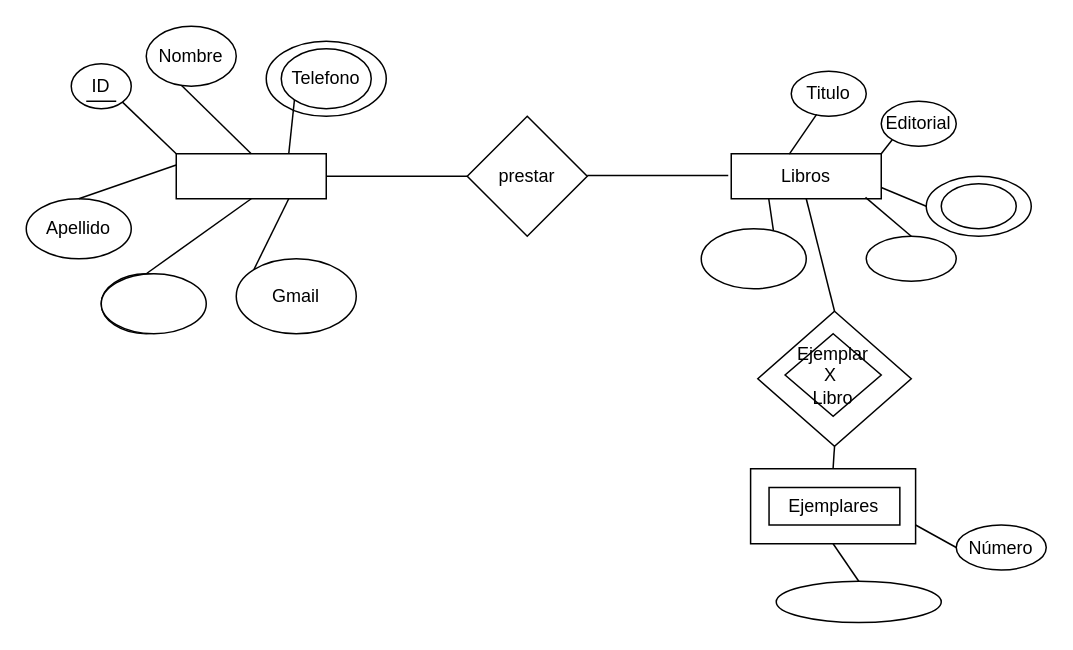
The diagram is 1073 pixels wide and 650 high, and some of its shapes have lost their labels. The box of each missing label's shape, as (x1, y1, x2, y2) in pixels:
Autor: (940, 182, 1016, 229)
Año de Edición: (865, 235, 956, 281)
Año de escritura: (700, 227, 806, 289)
Dirección: (100, 272, 206, 334)
Recomendaciiones: (775, 580, 941, 622)
Usuario: (175, 152, 326, 199)
